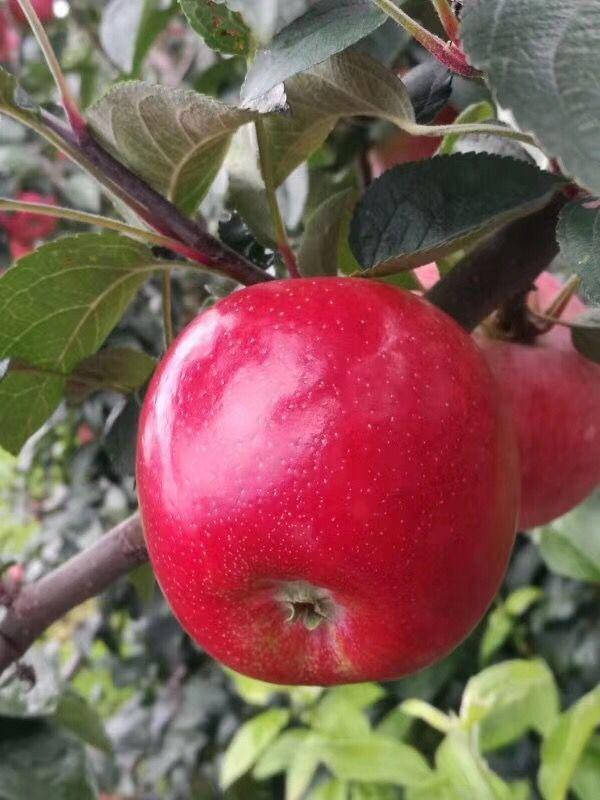apple: (138, 279, 531, 683)
